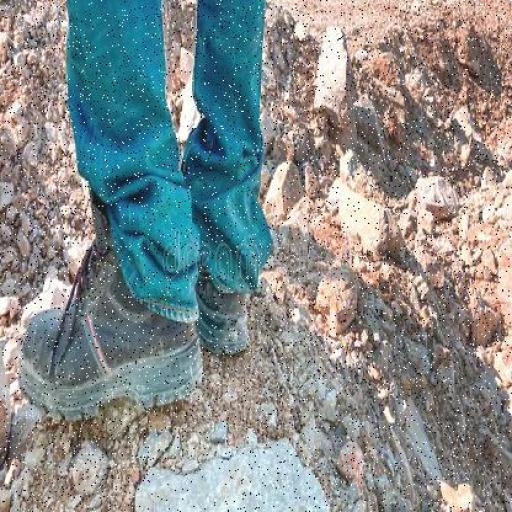safety_shoe: (18, 271, 200, 407)
